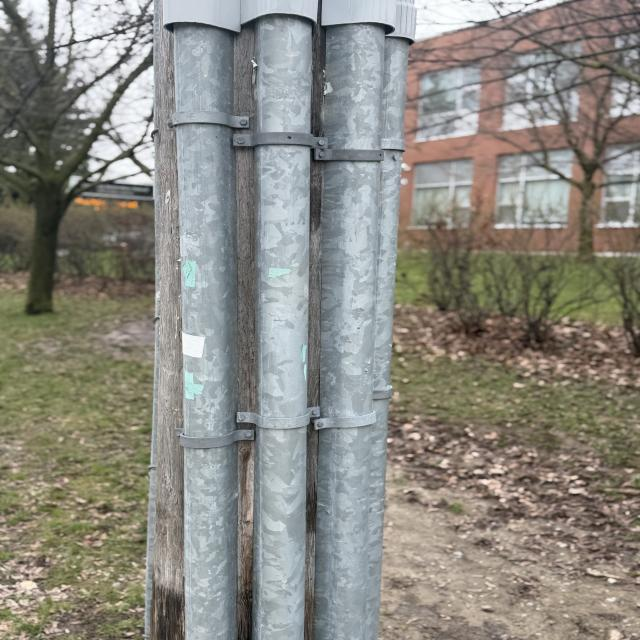Electrical Pole: (132, 1, 425, 640)
